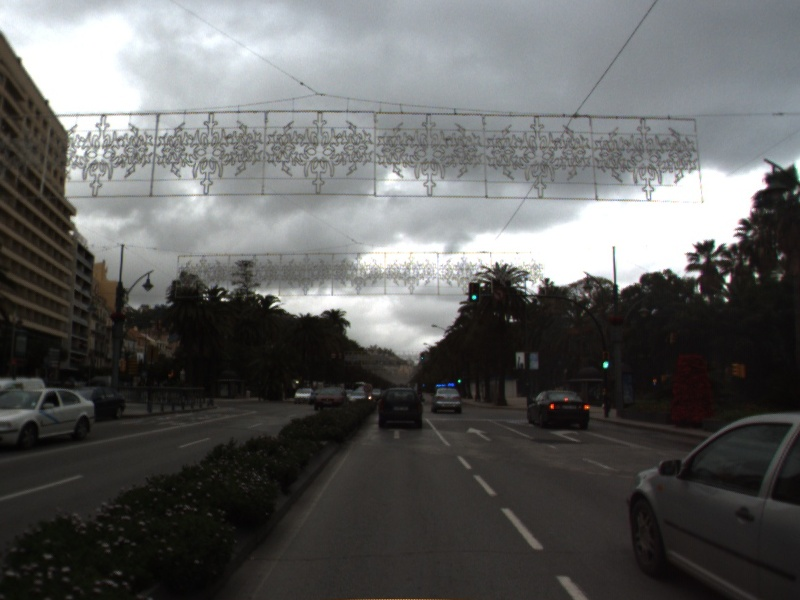RIGHT: (547, 427, 584, 445)
STRAIGHT: (464, 425, 493, 443), (386, 427, 410, 440)
